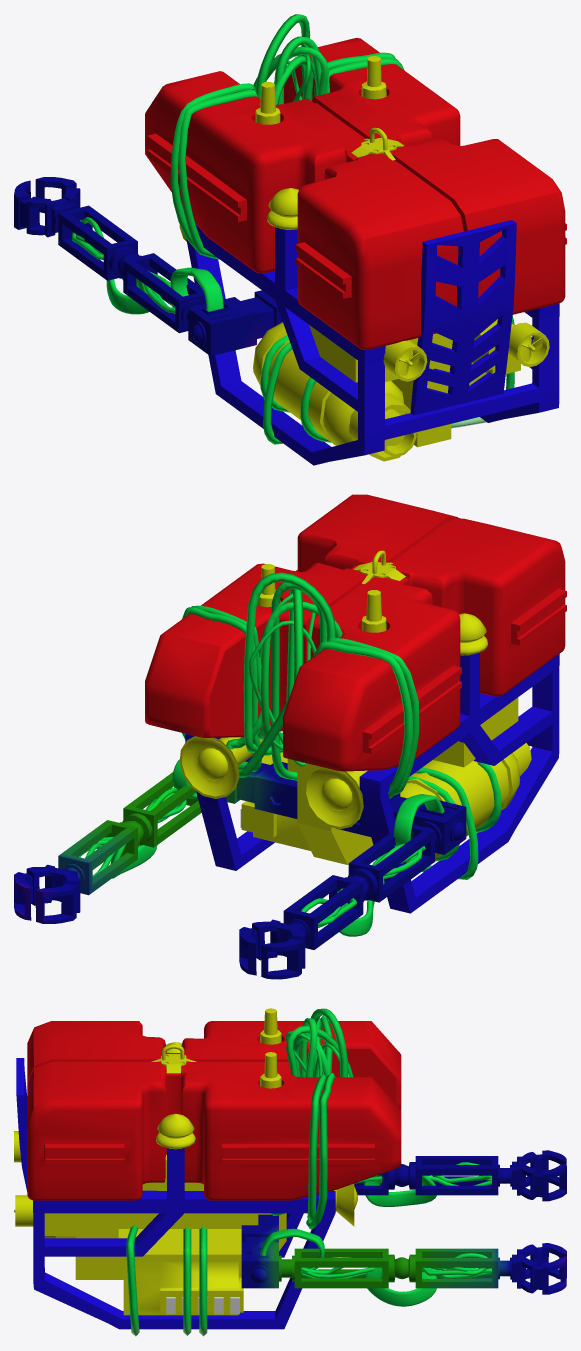
File: ROV4GameV1.fbx
3 views of the same model, one above another, from view 1: azimuth 30°, elevation 25°; view 2: azimuth 150°, elevation 25°; view 3: azimuth 270°, elevation 25° (orthographic). The views are drawn at different scales.
Parts seen in each view (by area): view 1: ROV; view 2: ROV; view 3: ROV.
Part boxes in pixels (bbox=[...]): ROV: bbox=[14, 14, 566, 465]; ROV: bbox=[14, 494, 566, 979]; ROV: bbox=[14, 1008, 566, 1336].
Bounding box in the file's own units: 480 × 557 × 958.
